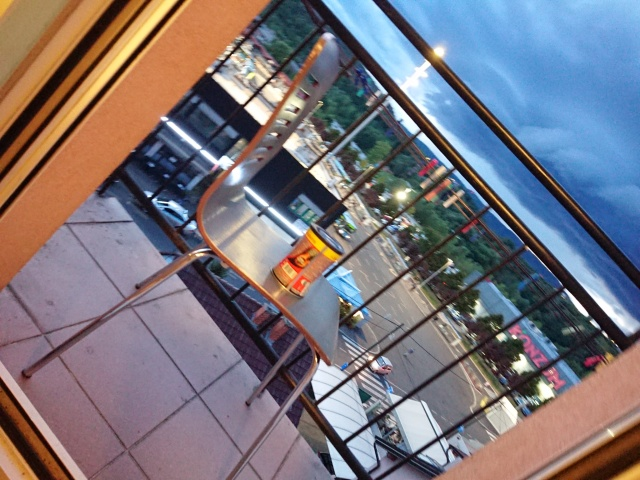Nescafe Classic 225g: (269, 221, 347, 301)
